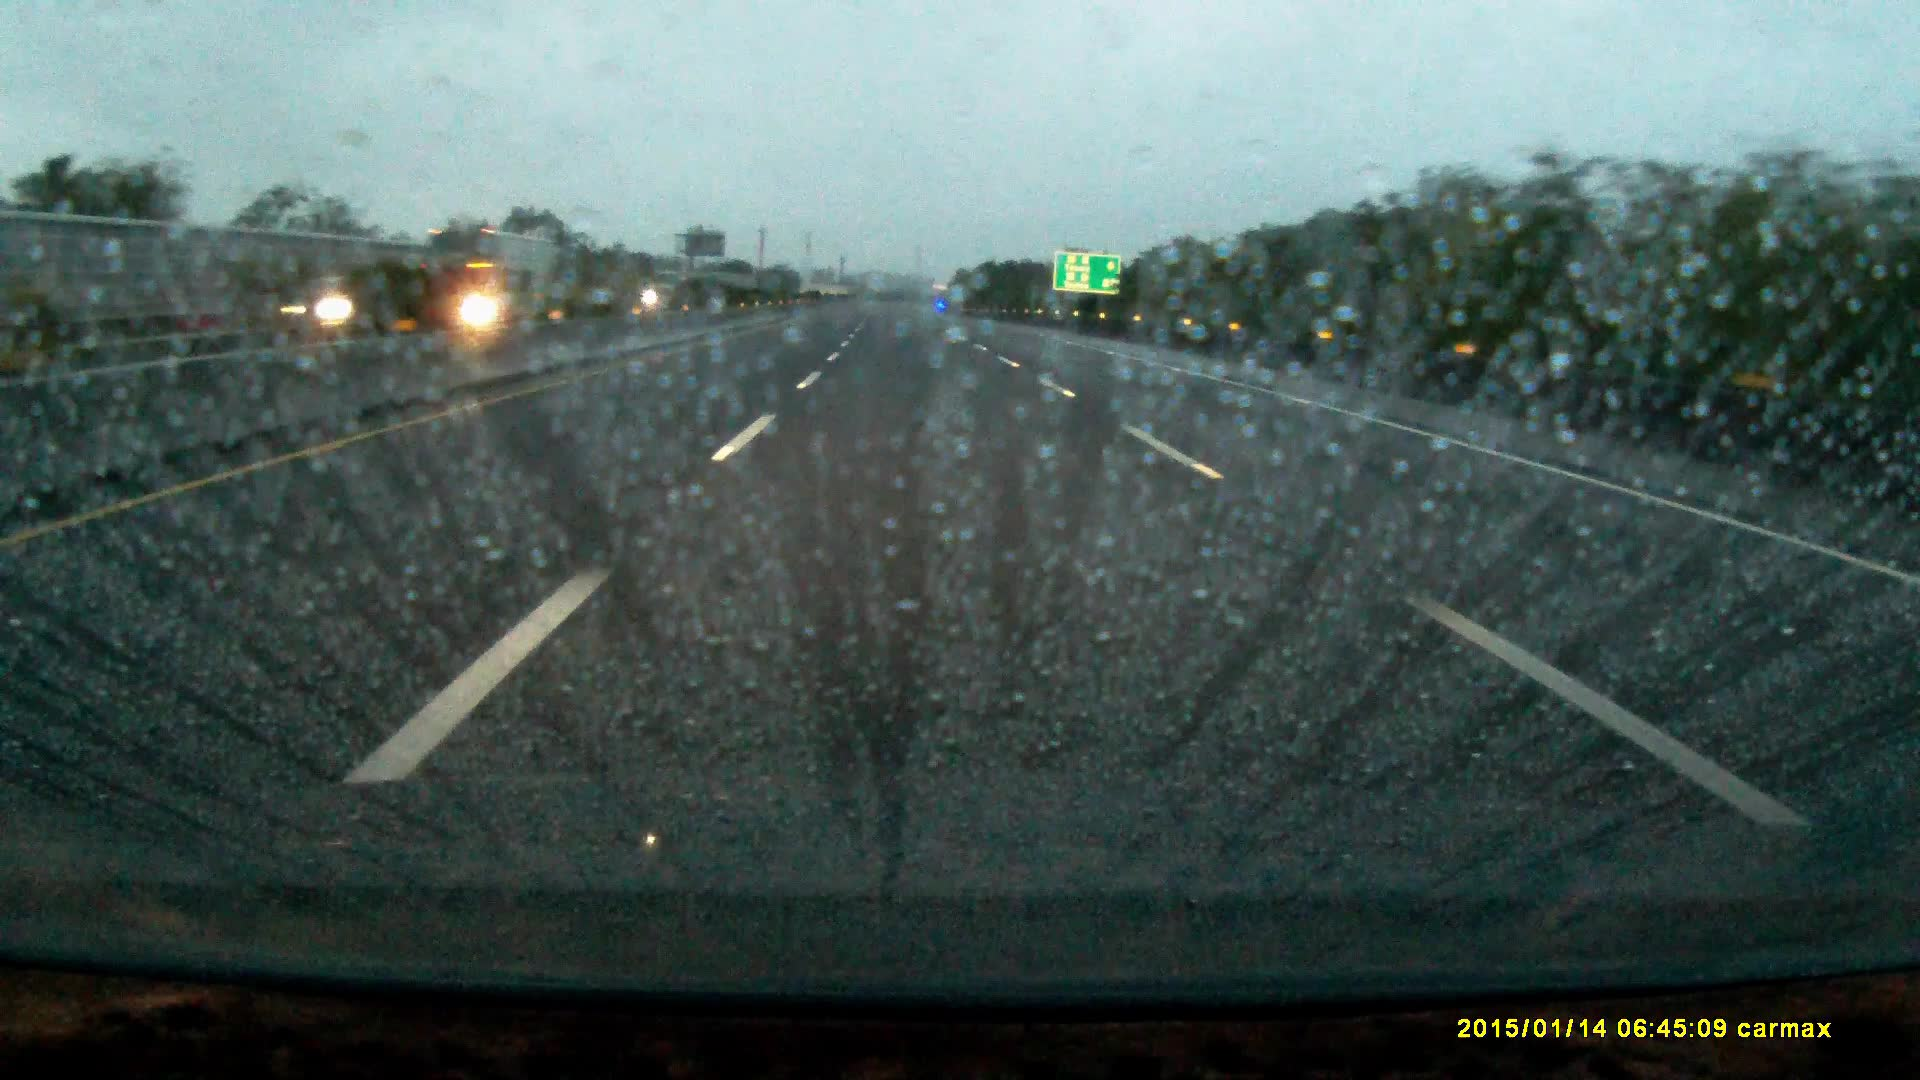vehicle: (415, 225, 554, 324), (280, 278, 388, 338), (647, 270, 695, 306)
